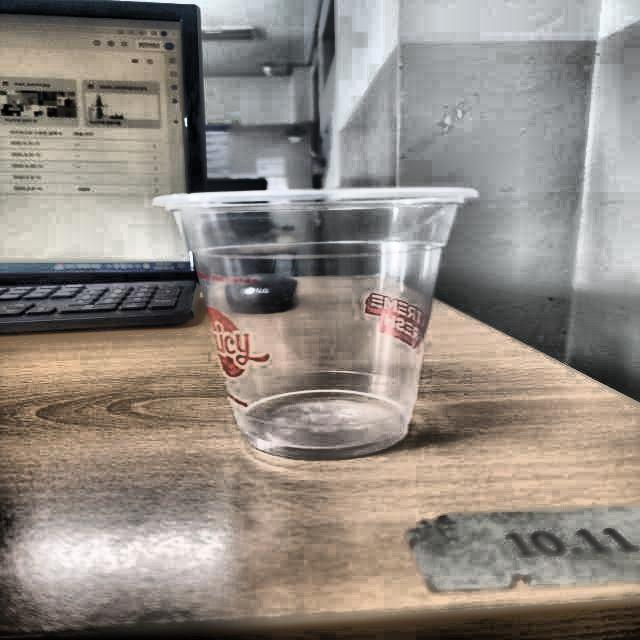plastic cup: (152, 184, 479, 461)
